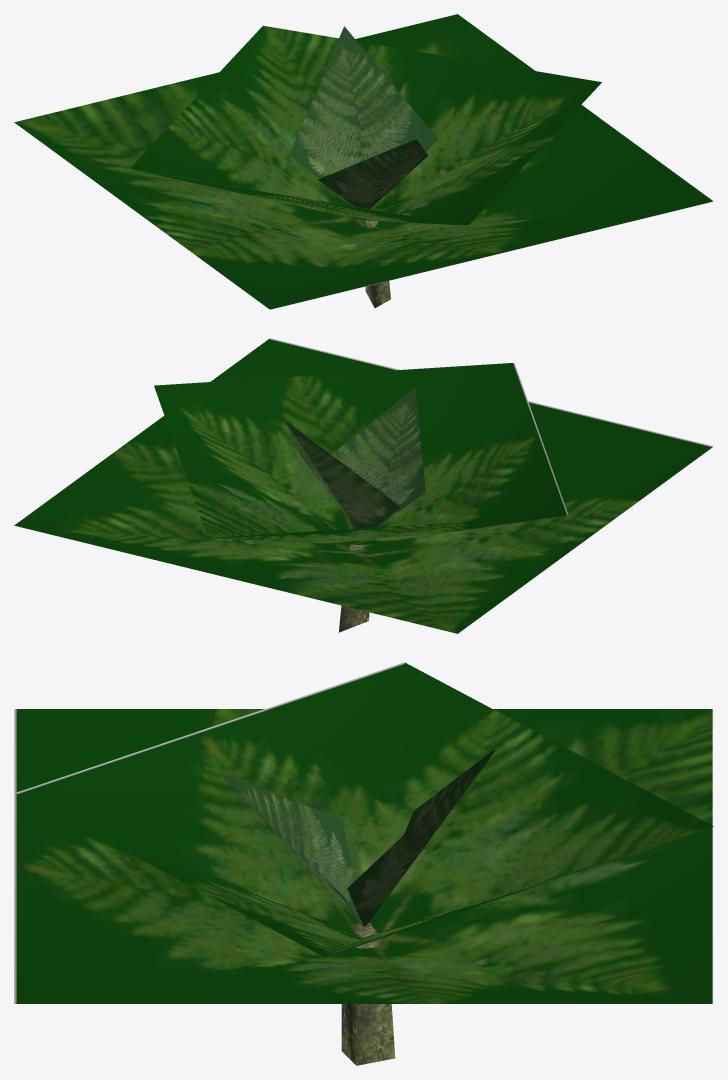
File: fern_giantfern_l2.fbx
The picture shows the model from 3 angles, top to bottom: view 1: azimuth 30°, elevation 25°; view 2: azimuth 150°, elevation 25°; view 3: azimuth 270°, elevation 25°; orthographic projection. The views are drawn at different scales.
Visible parts, largest first — view 1: mesh_node; view 2: mesh_node; view 3: mesh_node.
Part boxes in pixels (left/top/right/bottom): mesh_node: left=14, top=14, right=713, bottom=309; mesh_node: left=14, top=338, right=713, bottom=633; mesh_node: left=14, top=662, right=713, bottom=1065.
Bounding box in the file's own units: 3.5 × 1.76 × 3.49.
Materials: 2 (2 with a texture image).
